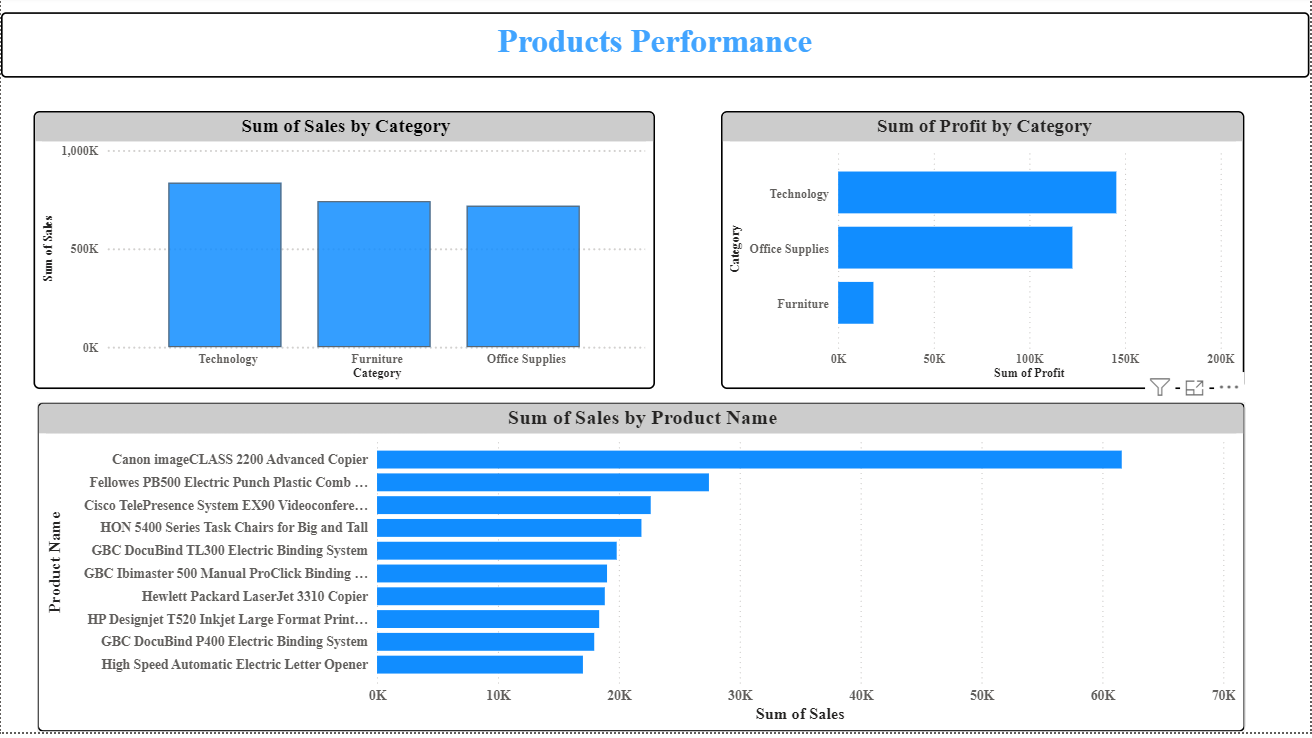

The page's visual inventory and layout, read from the dashboard file:
{"tool":"powerbi","page":{"name":"Products Performance","canvas":[1280,720],"ordinal":1},"visuals":[{"type":"columnChart","fields":{"Category":["CleanedSuperstore.Category"],"Y":["Sum(CleanedSuperstore.Sales)"]},"box":[32,112,608,272],"z":0},{"type":"barChart","fields":{"Category":["CleanedSuperstore.Category"],"Y":["Sum(CleanedSuperstore.Profit)"]},"box":[704,112,512,272],"z":1000},{"type":"barChart","fields":{"Category":["CleanedSuperstore.Product Name"],"Y":["Sum(CleanedSuperstore.Sales)"]},"box":[35.7,397.9,1181.5,322.5],"z":2000},{"type":"textbox","box":[0,16,1280,64],"z":3000}]}

Visuals, with their boxes in screenshot pixels (x1, y1, x2, y2), scaled from the page's 1280x720 canvas onto the 1312x738 screenshot:
columnChart - CleanedSuperstore.Category x Sum(CleanedSuperstore.Sales): (33,115,656,394)
barChart - CleanedSuperstore.Category x Sum(CleanedSuperstore.Profit): (722,115,1246,394)
barChart - CleanedSuperstore.Product Name x Sum(CleanedSuperstore.Sales): (37,408,1248,737)
textbox: (0,16,1311,82)
